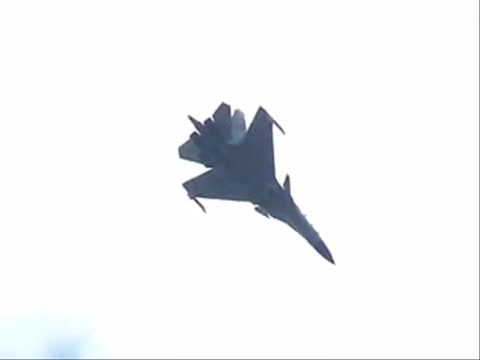aeroplane: (178, 101, 338, 266)
